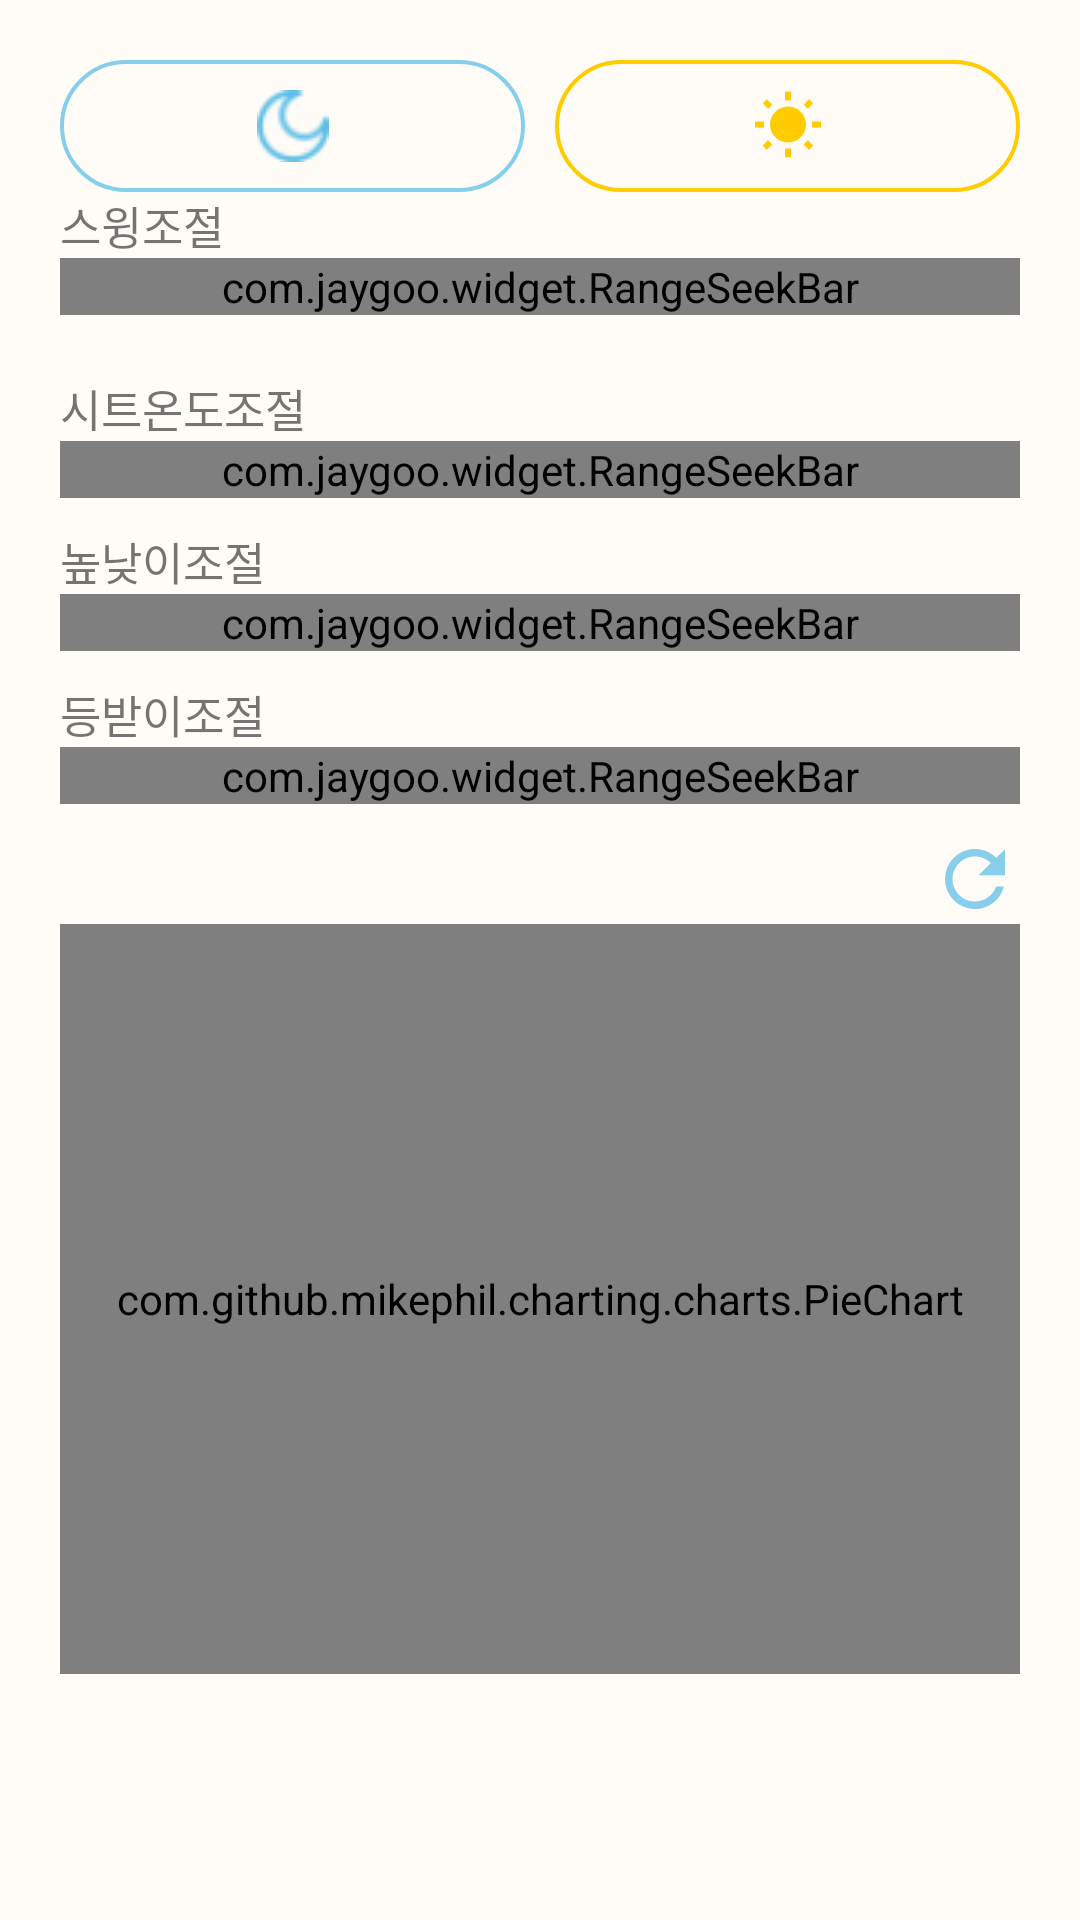

Screen size 1080*1920. Icon name, then its box in pixels as (x1, y1, x2, y2):
refresh: (945, 849, 1005, 909)
